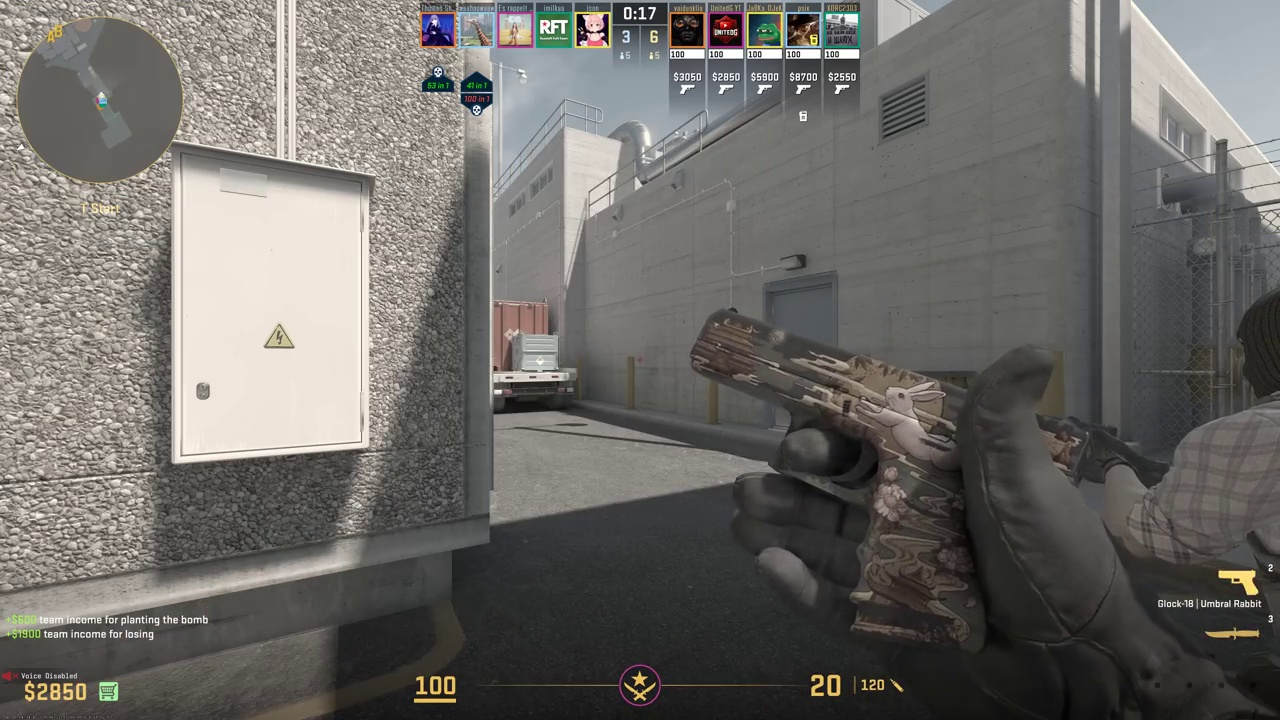Terrorist: (1194, 293, 1280, 714)
